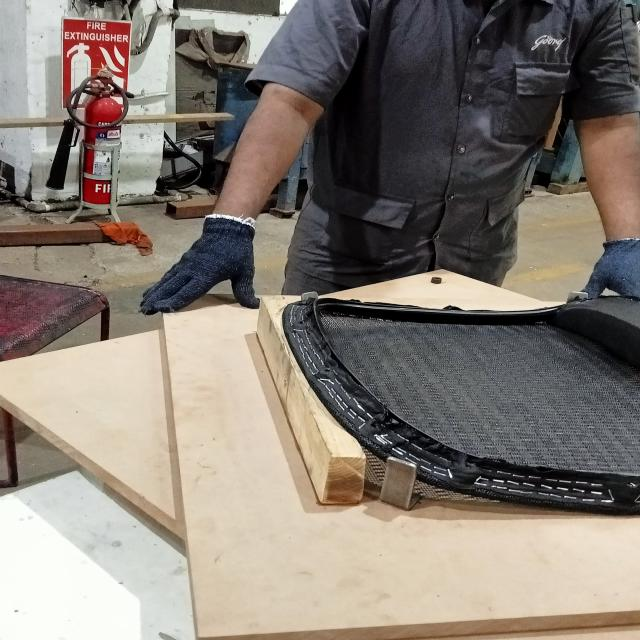Gloves-Detection: (138, 204, 258, 318), (573, 237, 640, 299)
